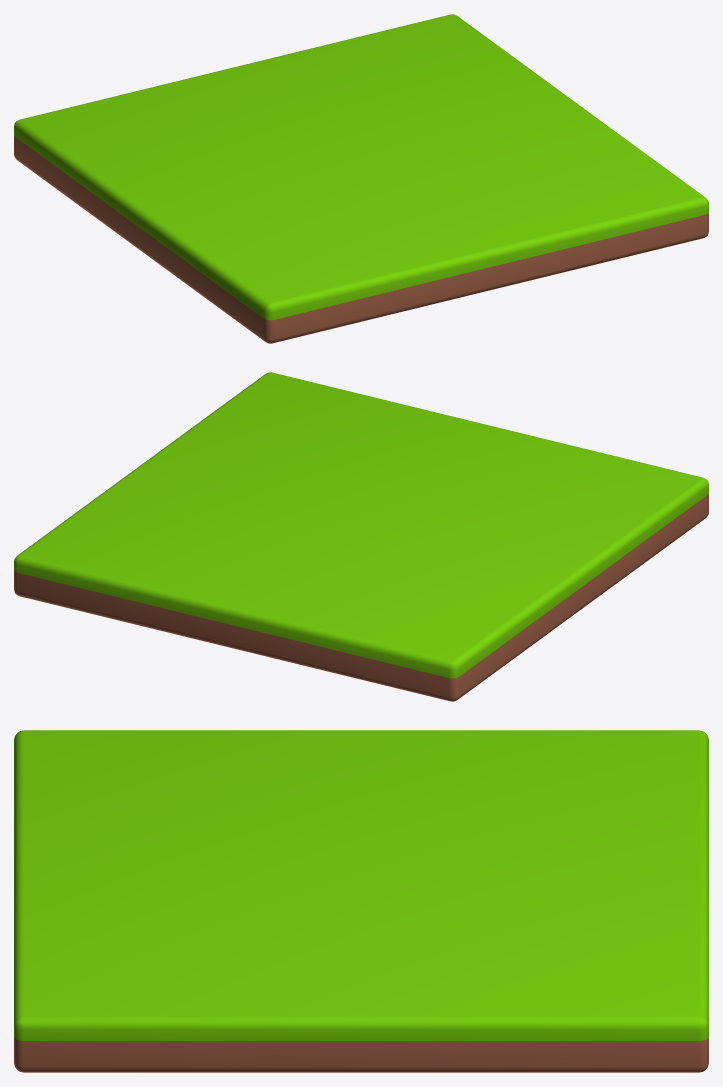
The model's file is ground.glb.
3 renders of one model, top to bottom at view 1: azimuth 30°, elevation 25°; view 2: azimuth 150°, elevation 25°; view 3: azimuth 270°, elevation 25°, orthographic. The views are drawn at different scales.
Parts seen in each view (by area): view 1: ground; view 2: ground; view 3: ground.
Boxes of the visible parts, bbox=[...] form: ground: bbox=[14, 14, 708, 343]; ground: bbox=[14, 372, 708, 701]; ground: bbox=[14, 730, 708, 1072].
Size of the model in its own units: 2 by 0.1749 by 2.
